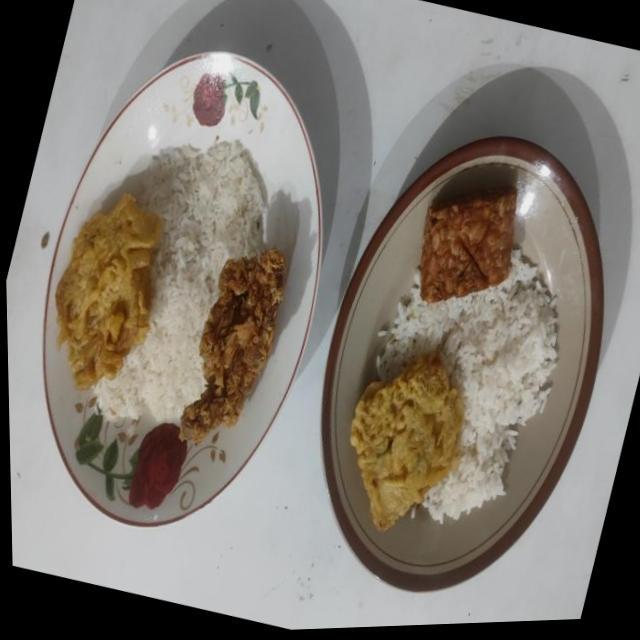nasi_putih: (376, 248, 558, 522), (98, 140, 266, 424)
tempe_goreng: (419, 189, 516, 302)
